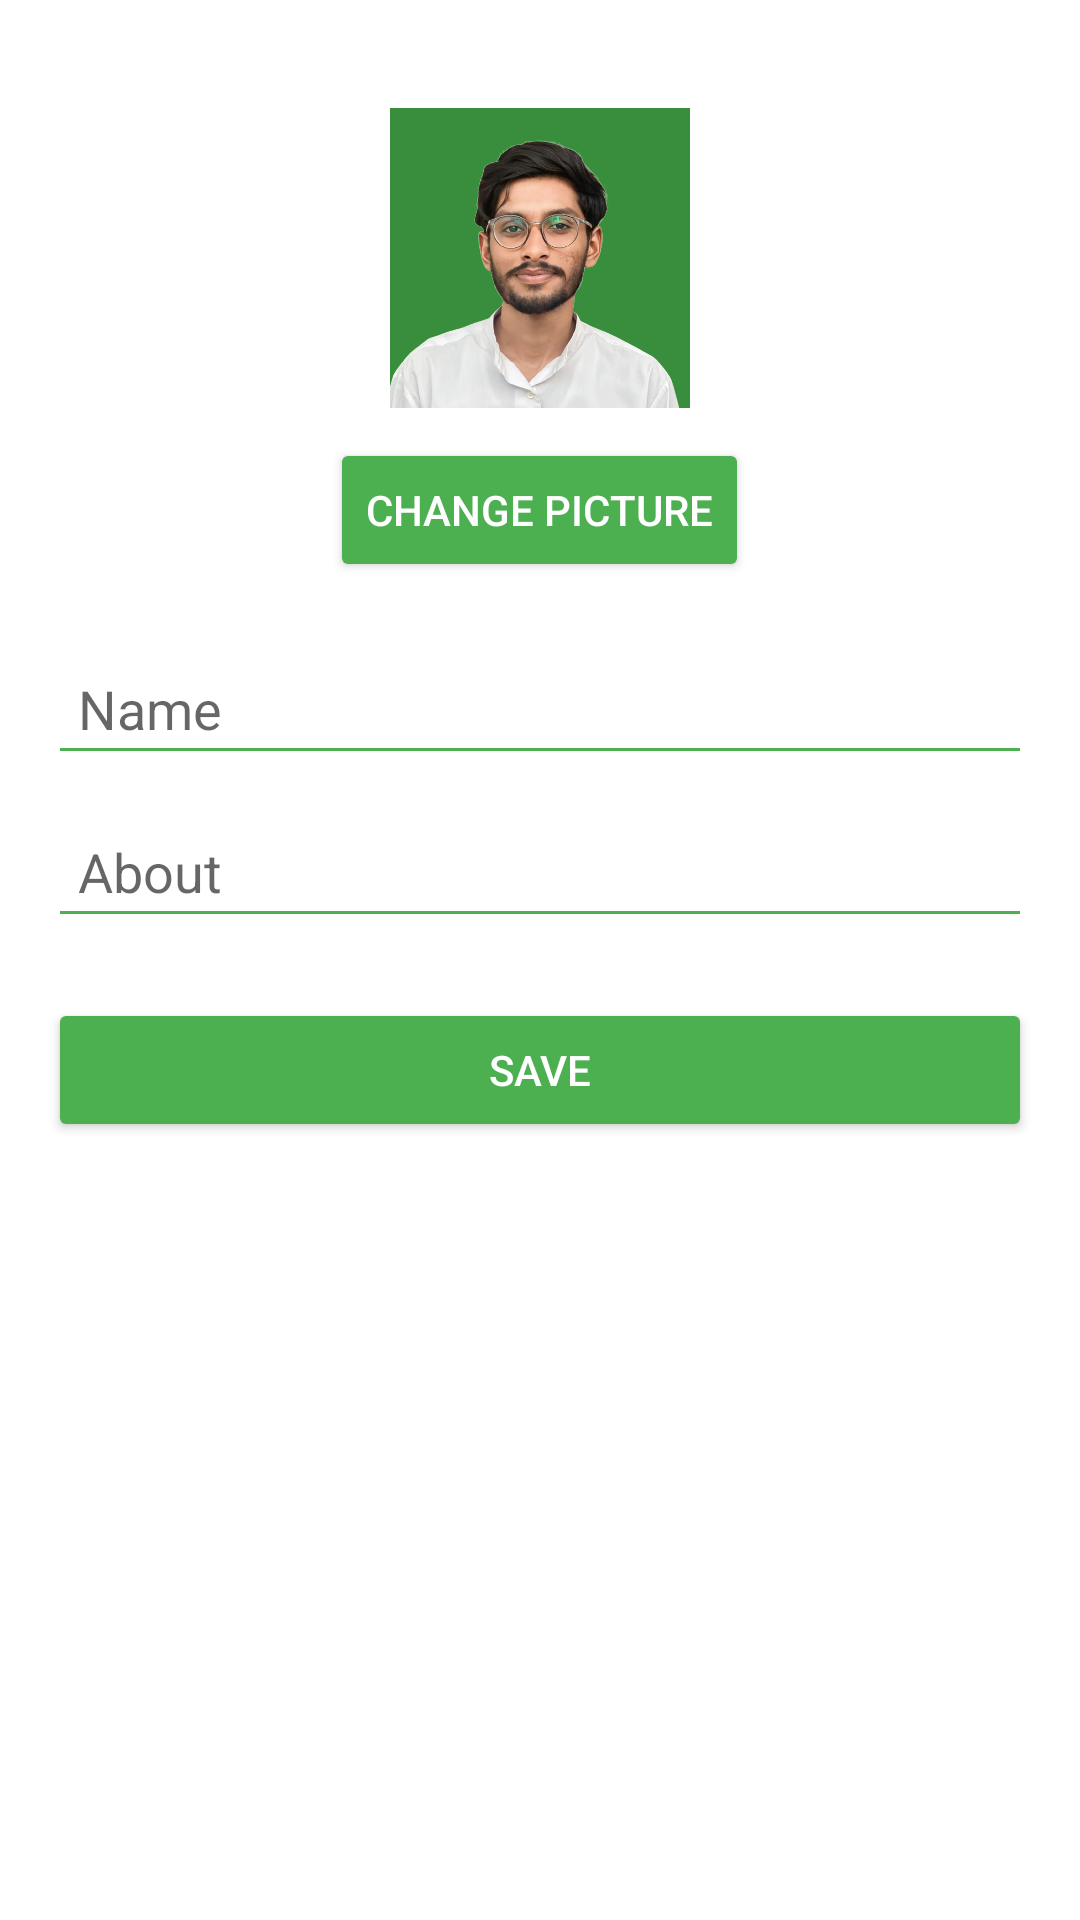

Icon bounding boxes for this 1080px×1920px phone screenshot, format (x1, y1, x2, y2):
profile: (390, 108, 690, 408)
